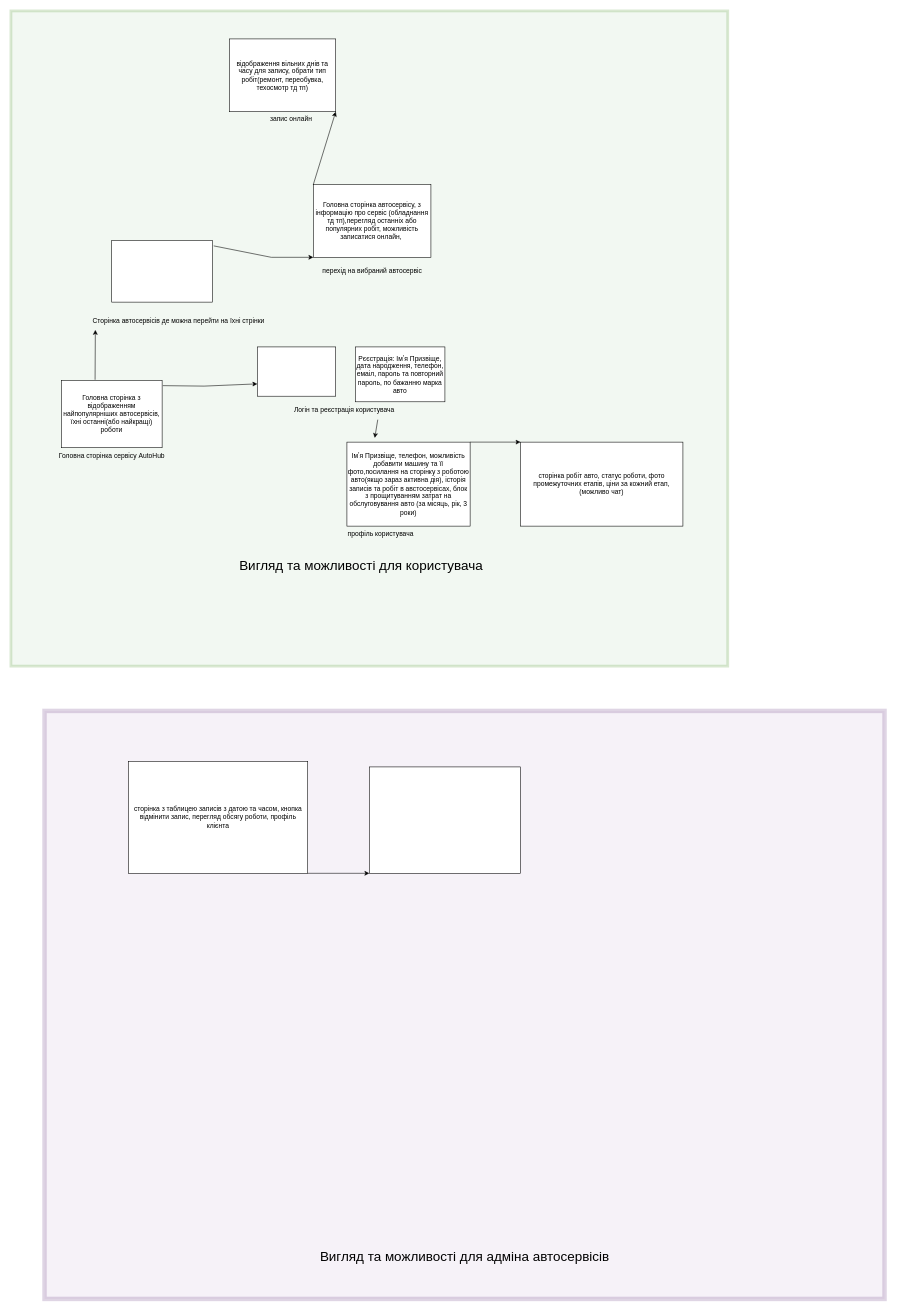
Image size: 897x1313. Some labels were removed from this diagram. The shapes that lost their labels are listed below. From the top down, each one's centre as x and y in pixels, then its label:
At point (162, 271): "сервіси в вигляді карток, з коротким описом, адресою, рейтином".
At point (296, 371): "логін: емаіл пароль(можливість входу через гугл), забули пароль, зарєєструватися".
